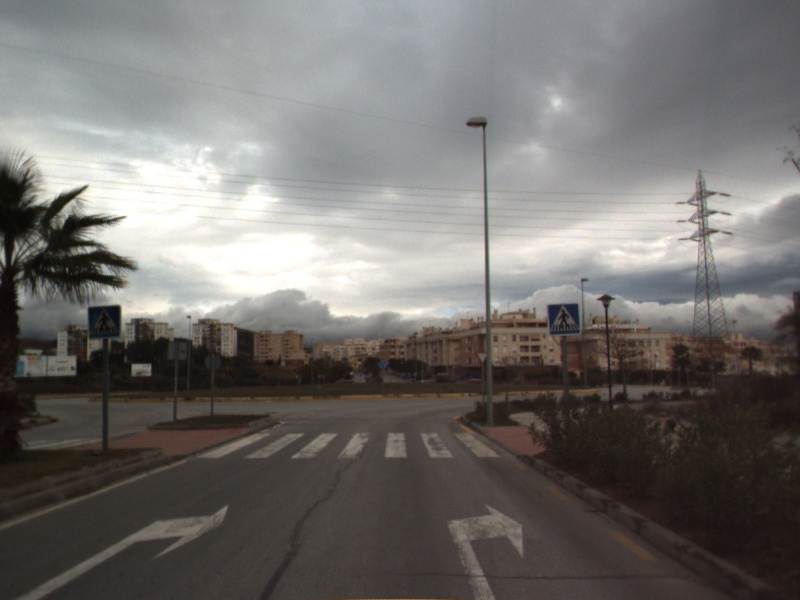RIGHT: (10, 502, 231, 600), (445, 500, 525, 600)
